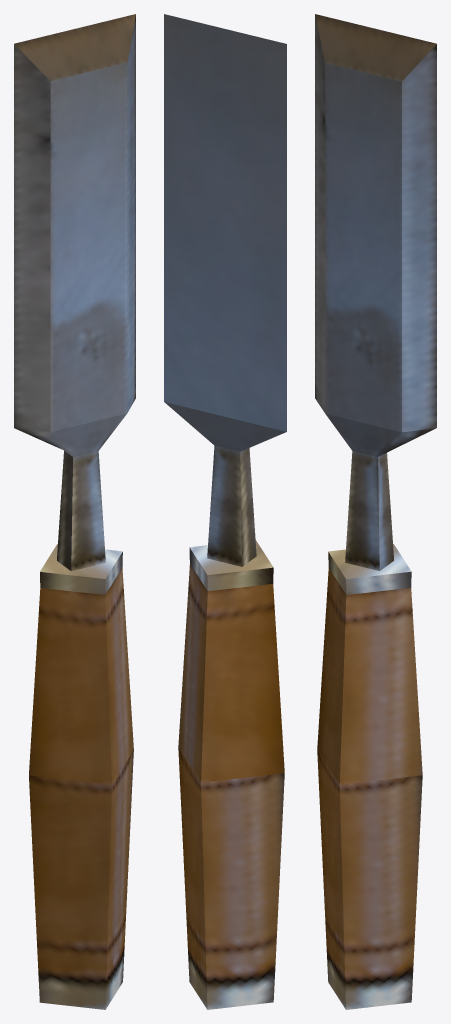
The model's file is Chisel.obj.
The picture shows the model from 3 angles, left to right: view 1: azimuth 30°, elevation 25°; view 2: azimuth 150°, elevation 25°; view 3: azimuth 330°, elevation 25°; orthographic projection.
Visible parts, largest first — view 1: Cube; view 2: Cube; view 3: Cube.
Boxes of the visible parts, x1,y1,x2,y2 form: Cube: [14, 14, 135, 1009]; Cube: [164, 14, 286, 1009]; Cube: [315, 14, 436, 1009].
Bounding box in the file's own units: 0.2318 × 1.74 × 0.2002.
Materials: 1 (1 with a texture image).
